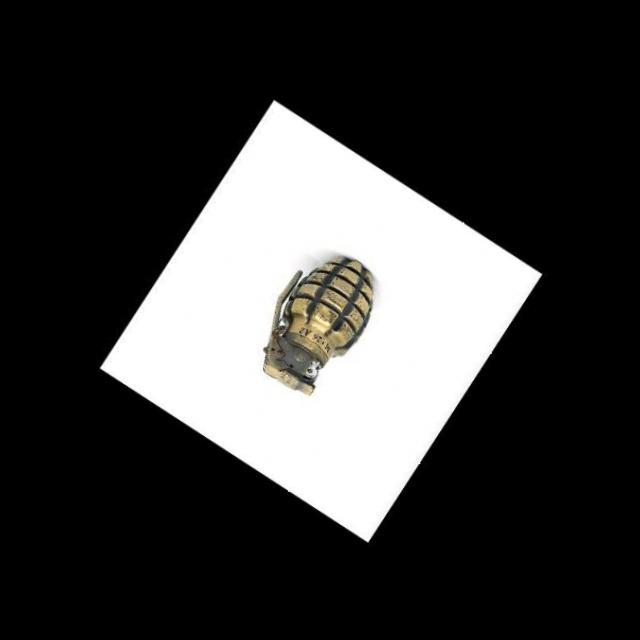grenade: (236, 238, 398, 418)
